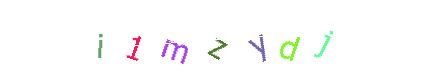1: (133, 0, 213, 80)
D: (234, 0, 314, 80)
I: (95, 0, 175, 80)
J: (250, 0, 330, 80)
M: (139, 0, 219, 80)
Y: (219, 0, 299, 80)
Z: (177, 0, 257, 80)
